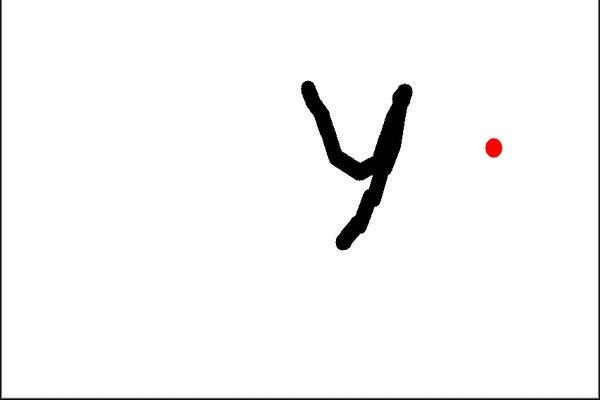Y: (288, 64, 424, 264)
